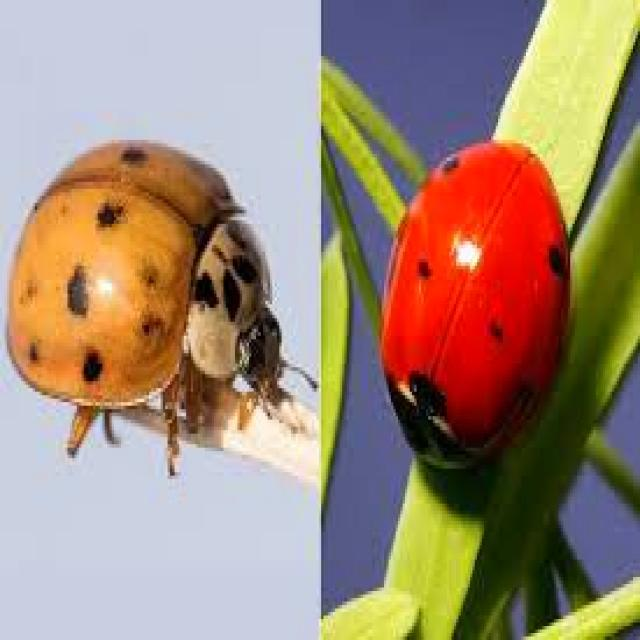ladybug: (7, 140, 286, 472), (379, 140, 568, 465)
